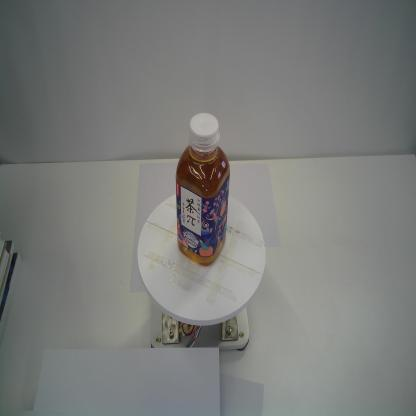Drink: (173, 112, 232, 269)
